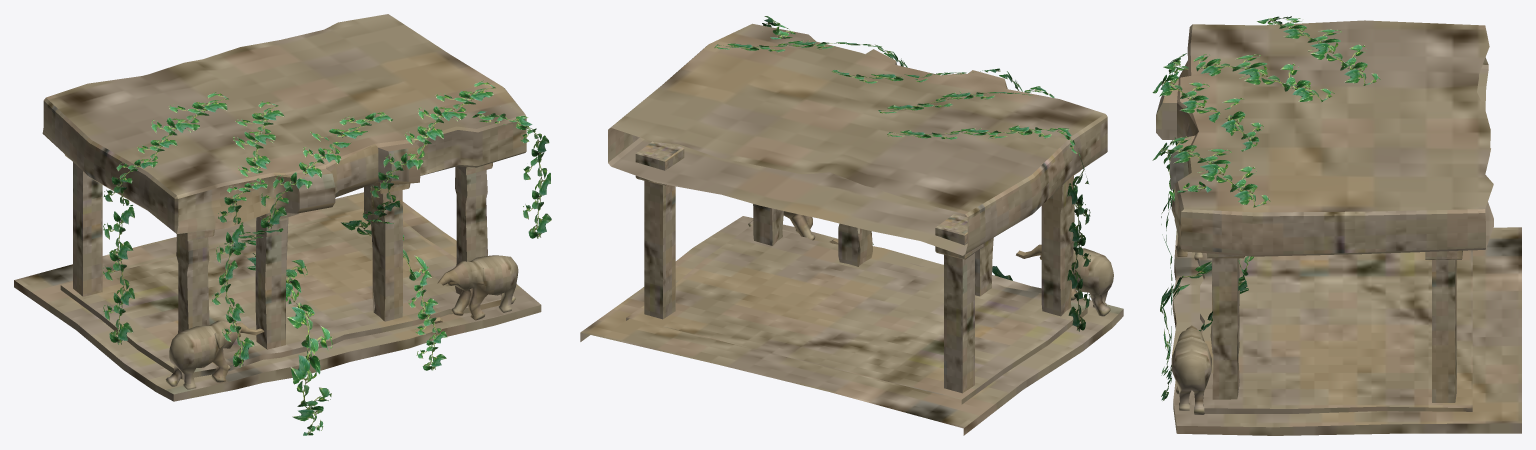
File: temple 3.fbx
The picture shows the model from 3 angles, left to right: view 1: azimuth 30°, elevation 25°; view 2: azimuth 150°, elevation 25°; view 3: azimuth 270°, elevation 25°; orthographic projection. The views are drawn at different scales.
Visible parts, largest first — view 1: temple_3, vine_5, vine_6, vine_7, vine_8, vine_20; view 2: temple_3, vine_7, vine_8, vine_6, vine_5; view 3: temple_3, vine_6, vine_5, vine_8, vine_7.
Part boxes in pixels (box(x1,y1,x2,y2)): temple_3: box(14, 14, 541, 401); vine_5: box(224, 112, 392, 435); vine_6: box(340, 80, 495, 370); vine_7: box(103, 92, 229, 344); vine_8: box(211, 100, 284, 367); vine_20: box(472, 106, 551, 238); temple_3: box(580, 23, 1123, 435); vine_7: box(887, 125, 1090, 331); vine_8: box(878, 86, 1086, 247); vine_6: box(714, 40, 907, 244); vine_5: box(831, 68, 1022, 280); temple_3: box(1156, 20, 1521, 435); vine_6: box(1152, 136, 1270, 400); vine_5: box(1152, 71, 1263, 375); vine_8: box(1163, 53, 1334, 242); vine_7: box(1257, 16, 1380, 85).
Size of the model in its own units: 35.04 by 23.46 by 25.82.
